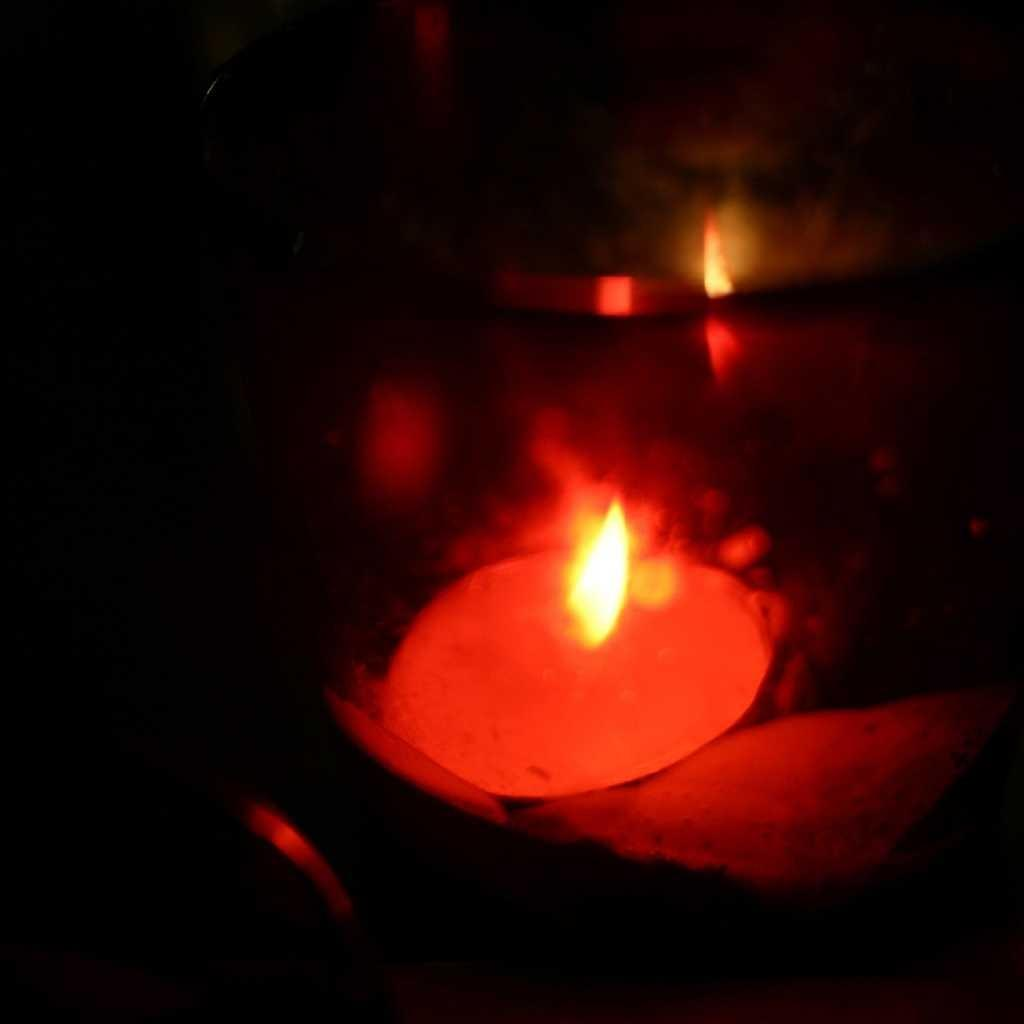fire: (560, 497, 654, 672)
